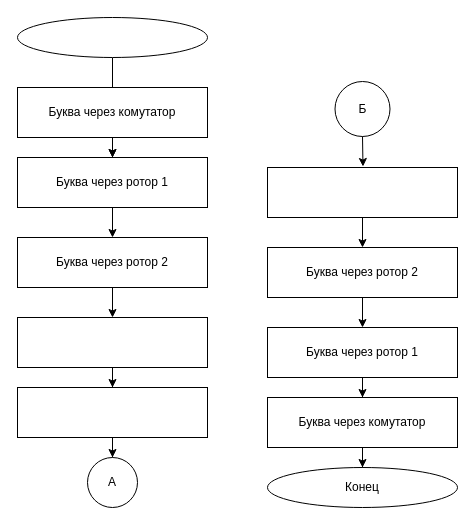
The diagram is 475 pixels wide and 525 high, and some of its shapes have lost their labels. The centre of each missing label's shape, as x and y in pixels:
Буква через рефлектор: (x=112, y=412)
Буква через ротор 3: (x=362, y=192)
Буква через ротор3: (x=112, y=342)
Начало: (x=112, y=37)
